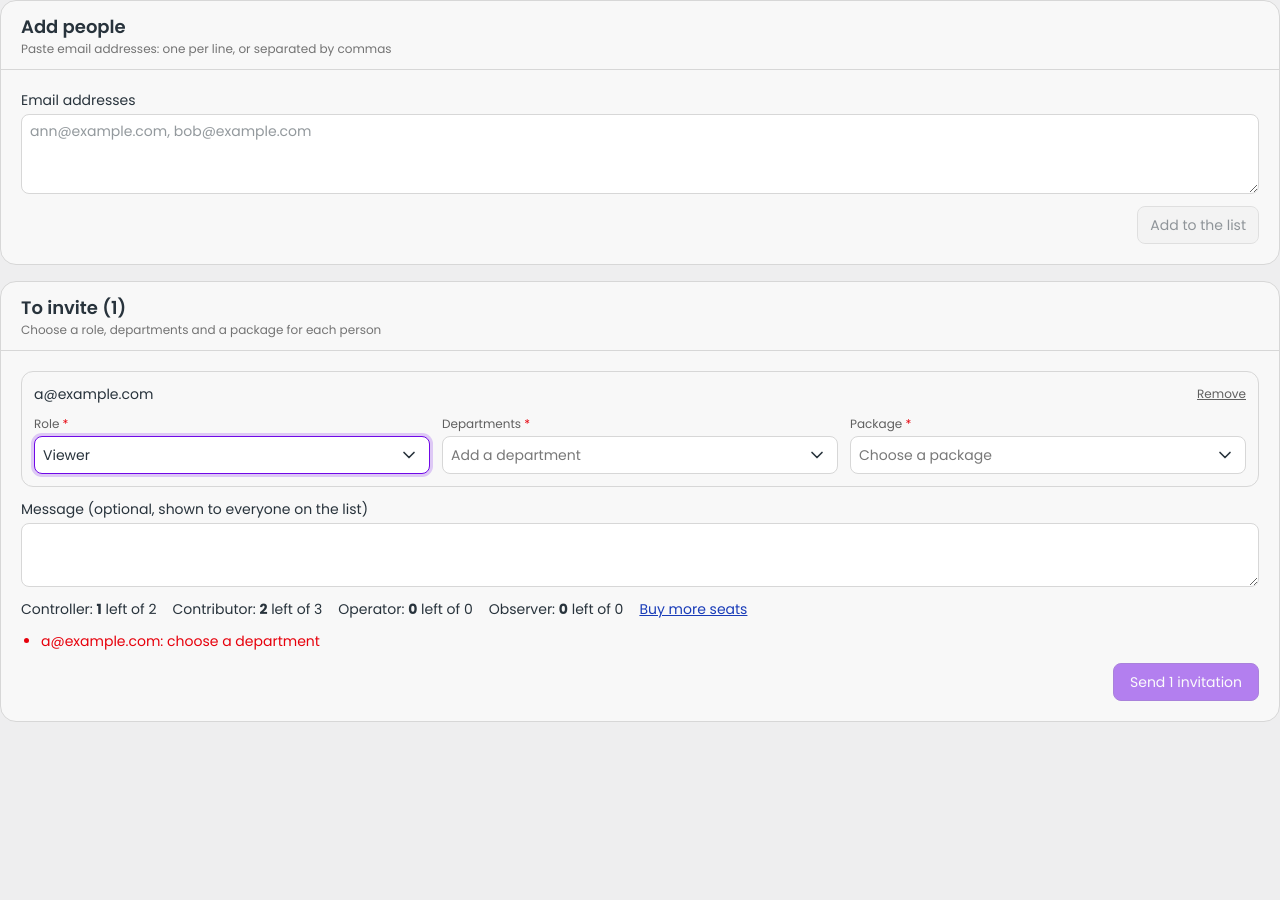
inviting a team › starts each newly added person with no role, department or package, whatever the people already listed have
Earlier steps of the test are not shown.
Click the dropdown named "Add a department for a@example.com" at (622, 455), box x1=451 y1=444 x2=793 y2=466
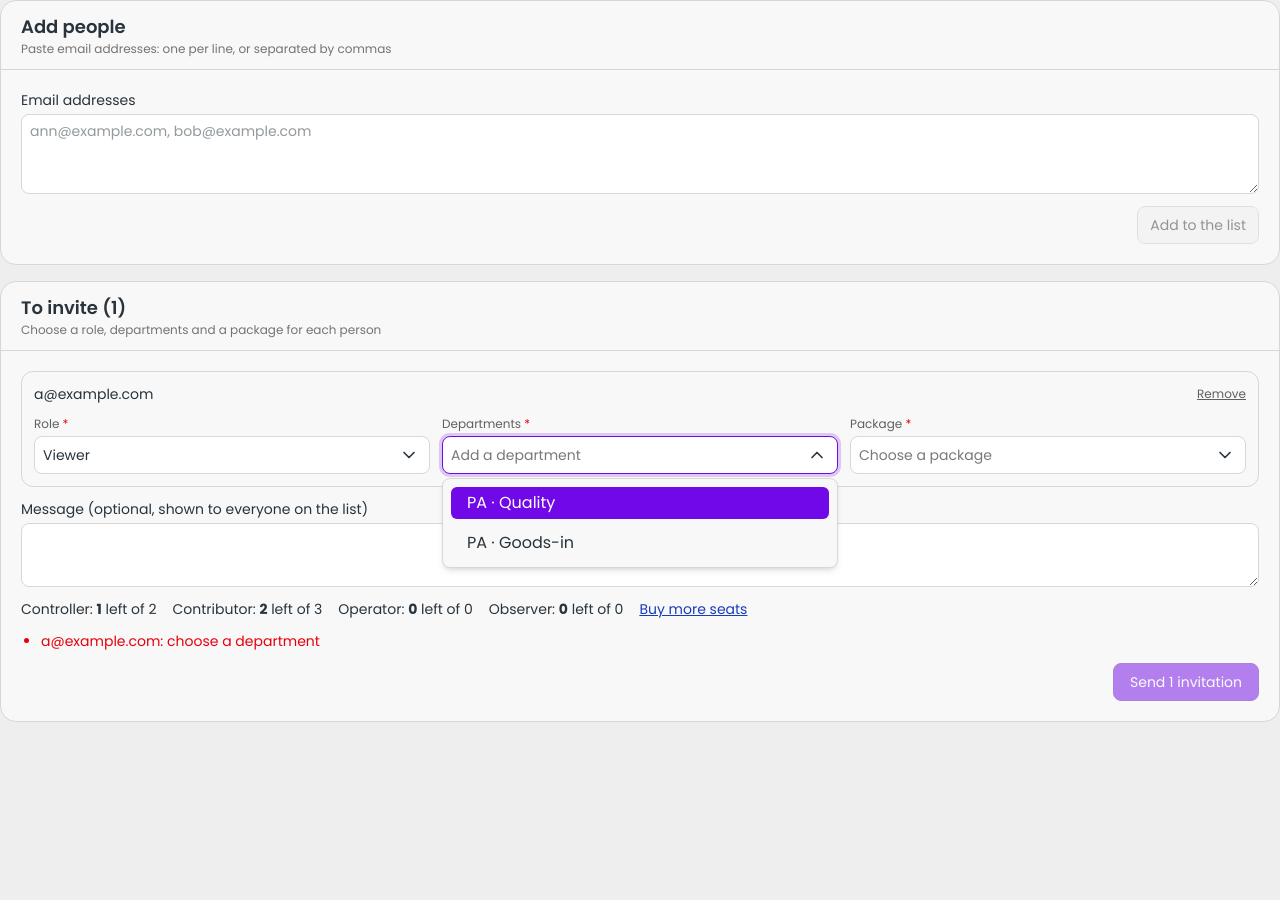
Click the option "PA · Quality" at (640, 503), box x1=443 y1=483 x2=837 y2=523
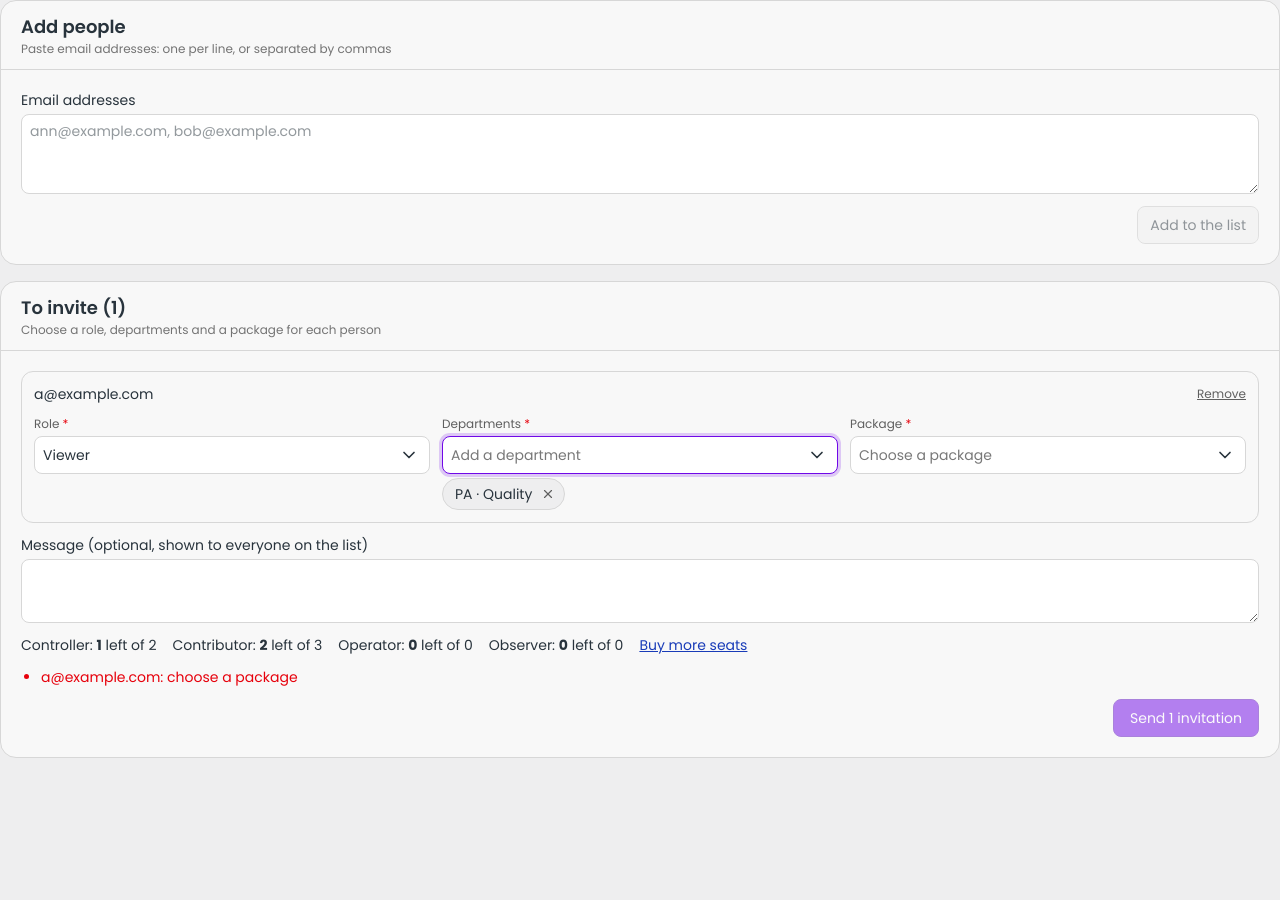
Click the dropdown named "Package for a@example.com" at (1030, 455), box x1=859 y1=444 x2=1201 y2=466
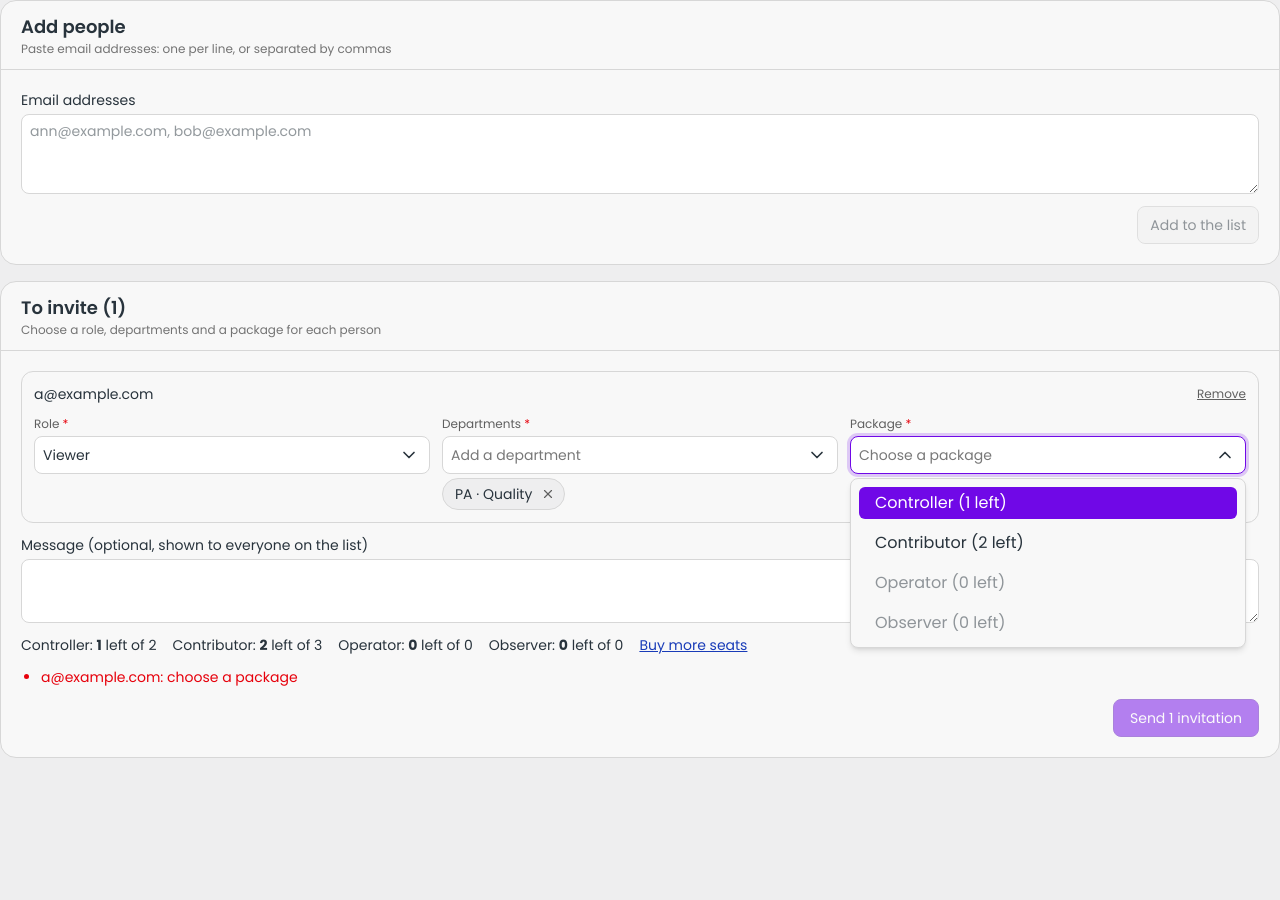
Click the option "Contributor (2 left)" at (949, 542), box x1=875 y1=531 x2=1024 y2=554
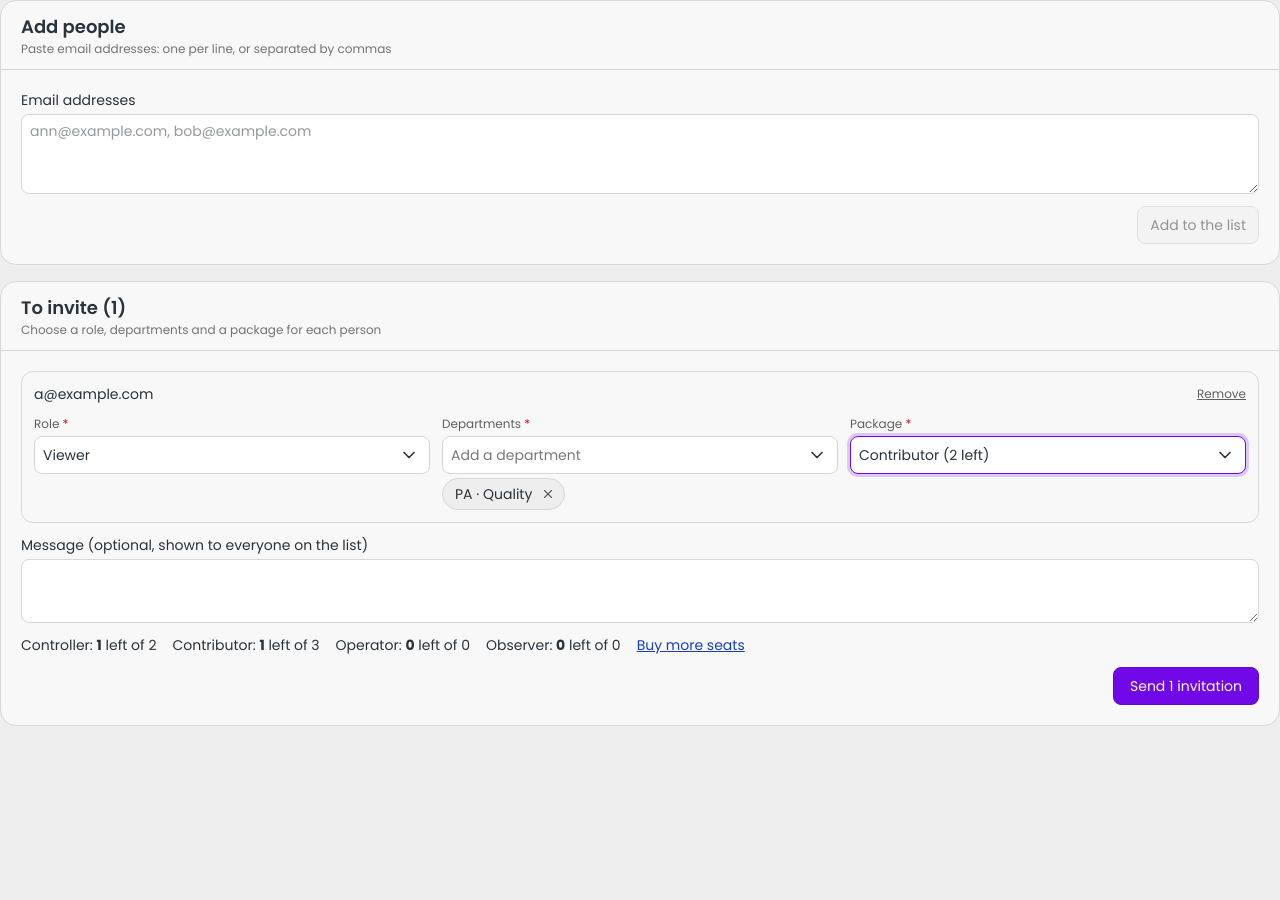
Type "b@example.com" into the text box labelled "Email addresses" at (640, 154), box x1=21 y1=114 x2=1259 y2=194
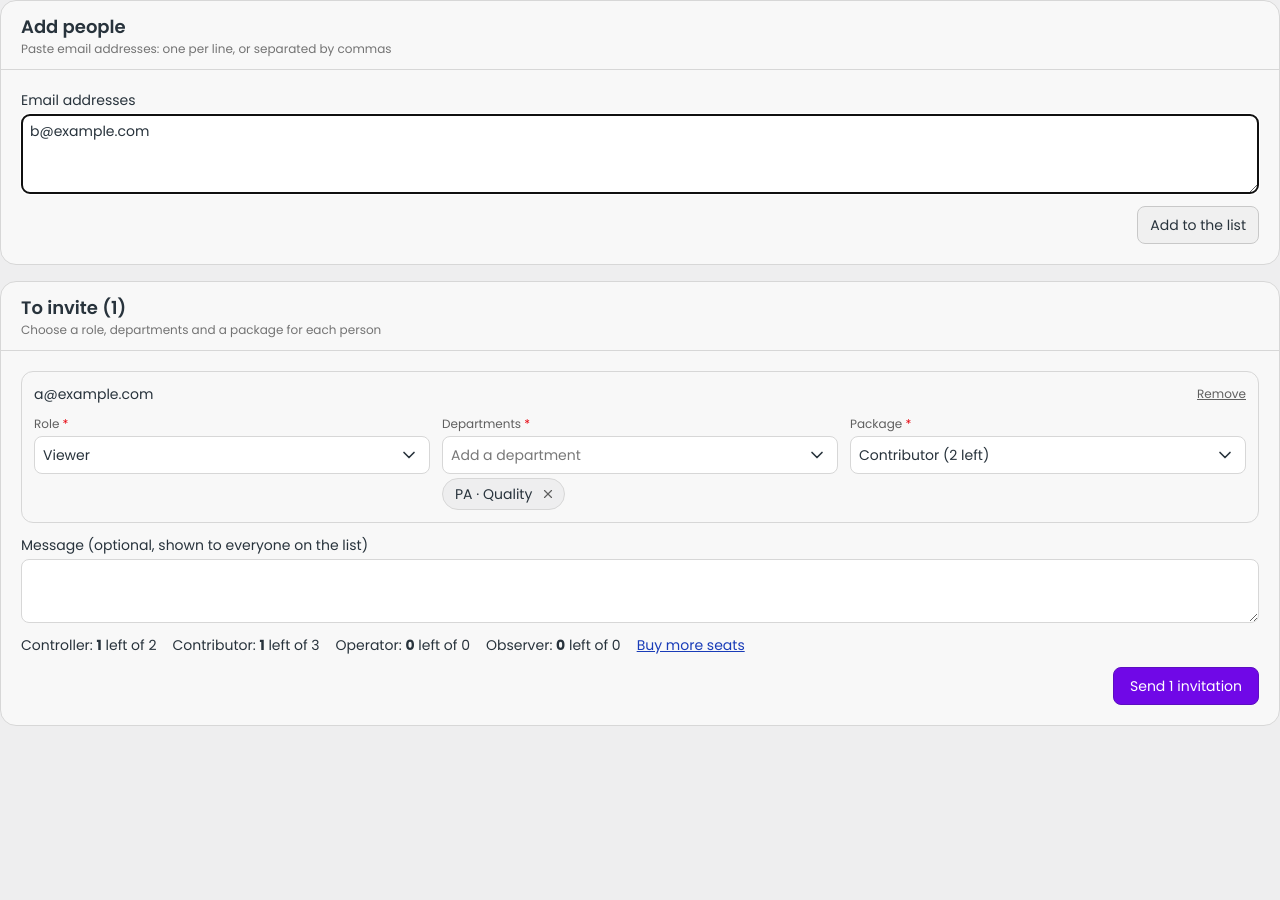
Click the button "Add to the list" at (1198, 225), box x1=1137 y1=206 x2=1259 y2=244
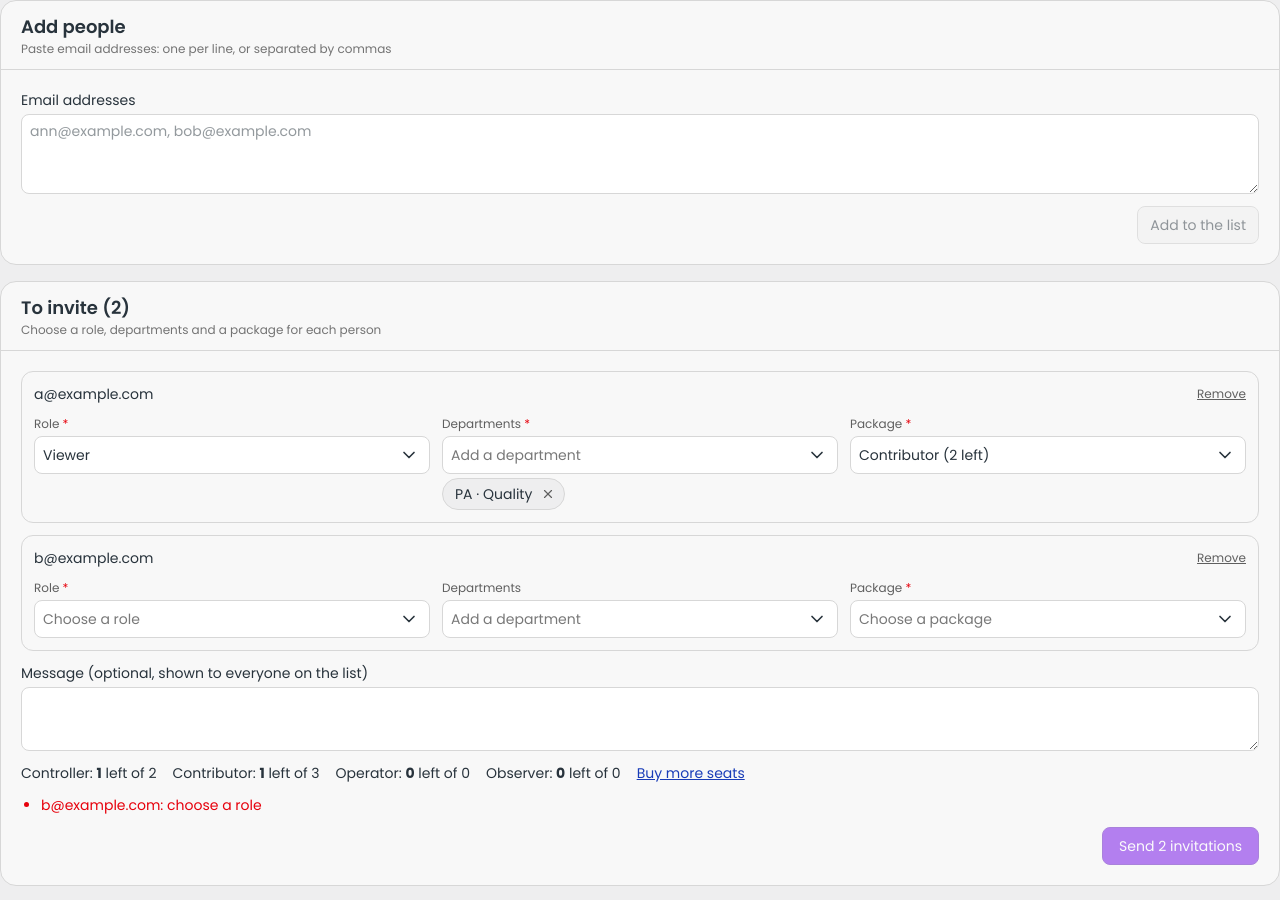
Expected: the list named "Departments for a@example.com" reads "PA · Quality", x1=455 y1=484 x2=532 y2=504
Expected: the dropdown named "Role for b@example.com" is empty, x1=43 y1=608 x2=385 y2=630
Expected: the dropdown named "Package for b@example.com" is empty, x1=859 y1=608 x2=1201 y2=630
